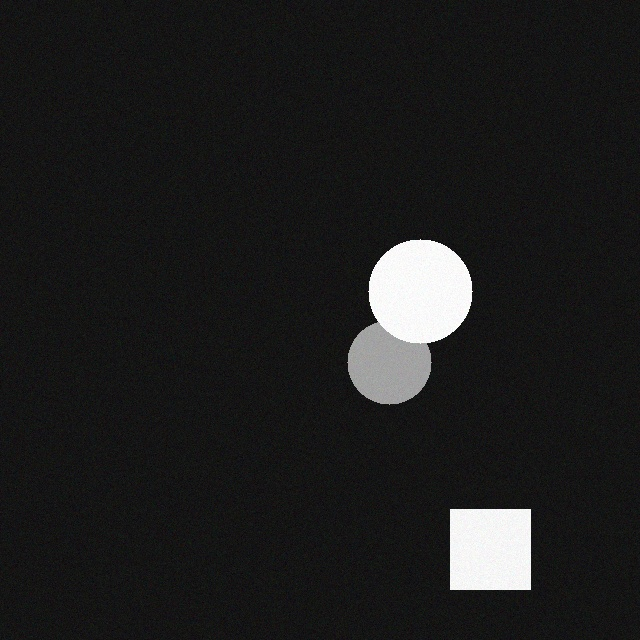circle: (365, 228, 469, 332), (344, 309, 428, 393)
square: (447, 498, 527, 578)
